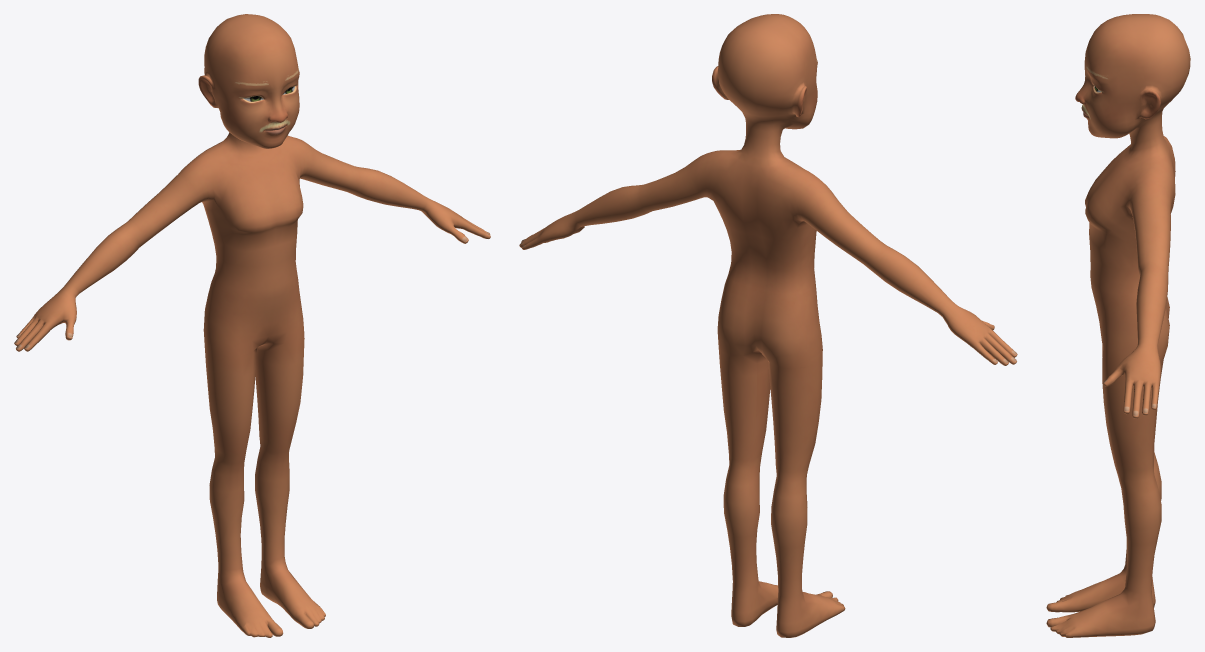
The model's file is frame_0038.glb.
3 renders of one model, left to right at view 1: azimuth 30°, elevation 25°; view 2: azimuth 150°, elevation 25°; view 3: azimuth 270°, elevation 25°, orthographic. The views are drawn at different scales.
Parts seen in each view (by area): view 1: frame_0038_head_geo; view 2: frame_0038_head_geo; view 3: frame_0038_head_geo.
Part boxes in pixels (bbox=[...]): frame_0038_head_geo: bbox=[14, 14, 490, 637]; frame_0038_head_geo: bbox=[519, 14, 1017, 637]; frame_0038_head_geo: bbox=[1046, 14, 1190, 637].
Size of the model in its own units: 1.28 by 1.5 by 0.3253.
Materials: 3 (3 with a texture image).
